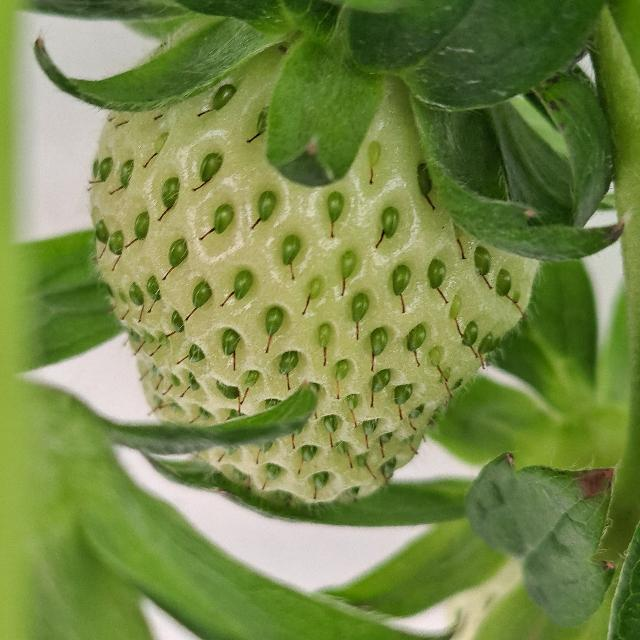Health_25: (90, 14, 538, 502)
